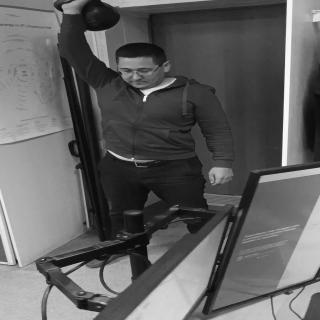kettlebell: (55, 1, 123, 33)
